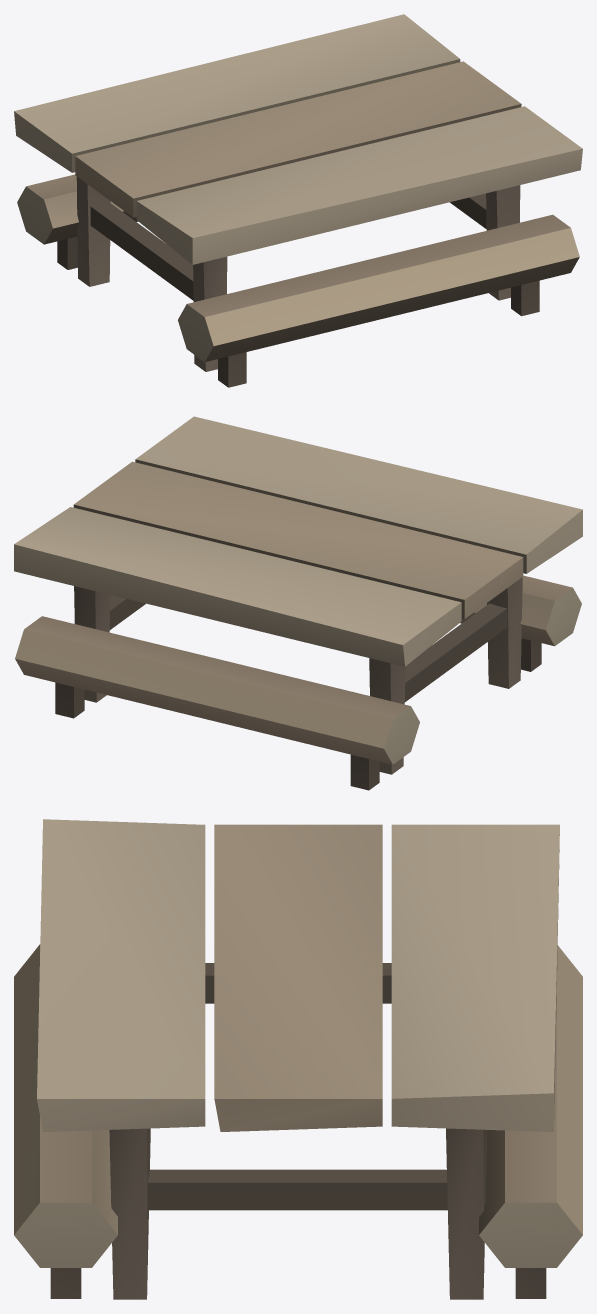
File: table.lod1.glb
3 views of the same model, one above another, from view 1: azimuth 30°, elevation 25°; view 2: azimuth 150°, elevation 25°; view 3: azimuth 270°, elevation 25° (orthographic). The views are drawn at different scales.
Size of the model in its own units: 2.12 by 0.84 by 1.86.
